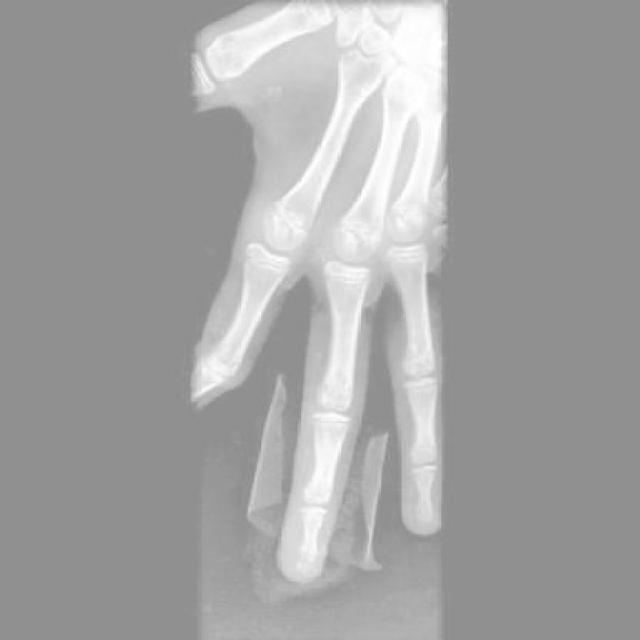Fracture: (297, 546, 323, 577)
